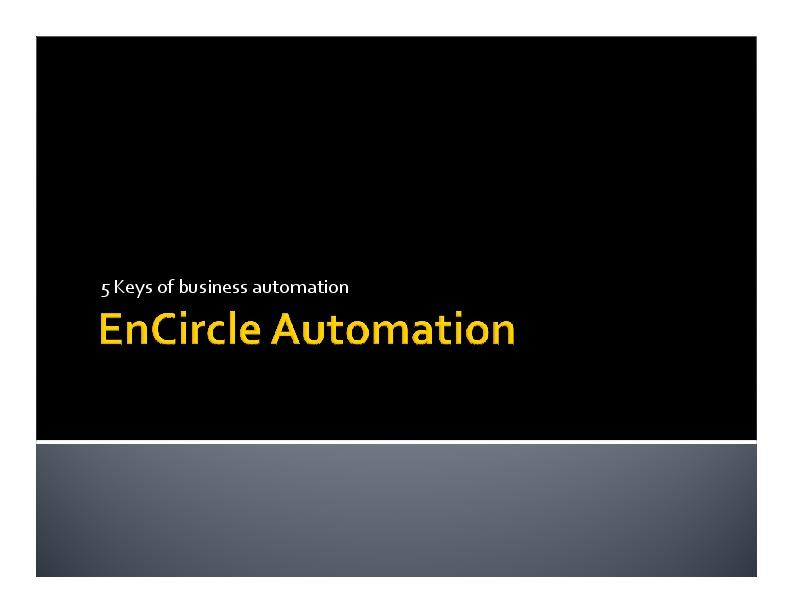title: (99, 300, 525, 363)
